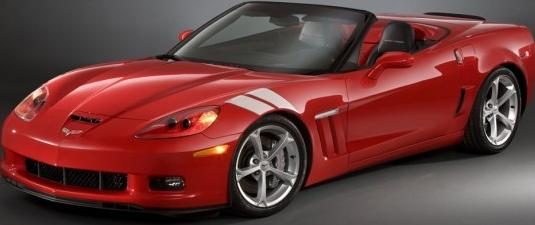front_view: (2, 74, 226, 212)
headlight: (129, 102, 227, 141)
